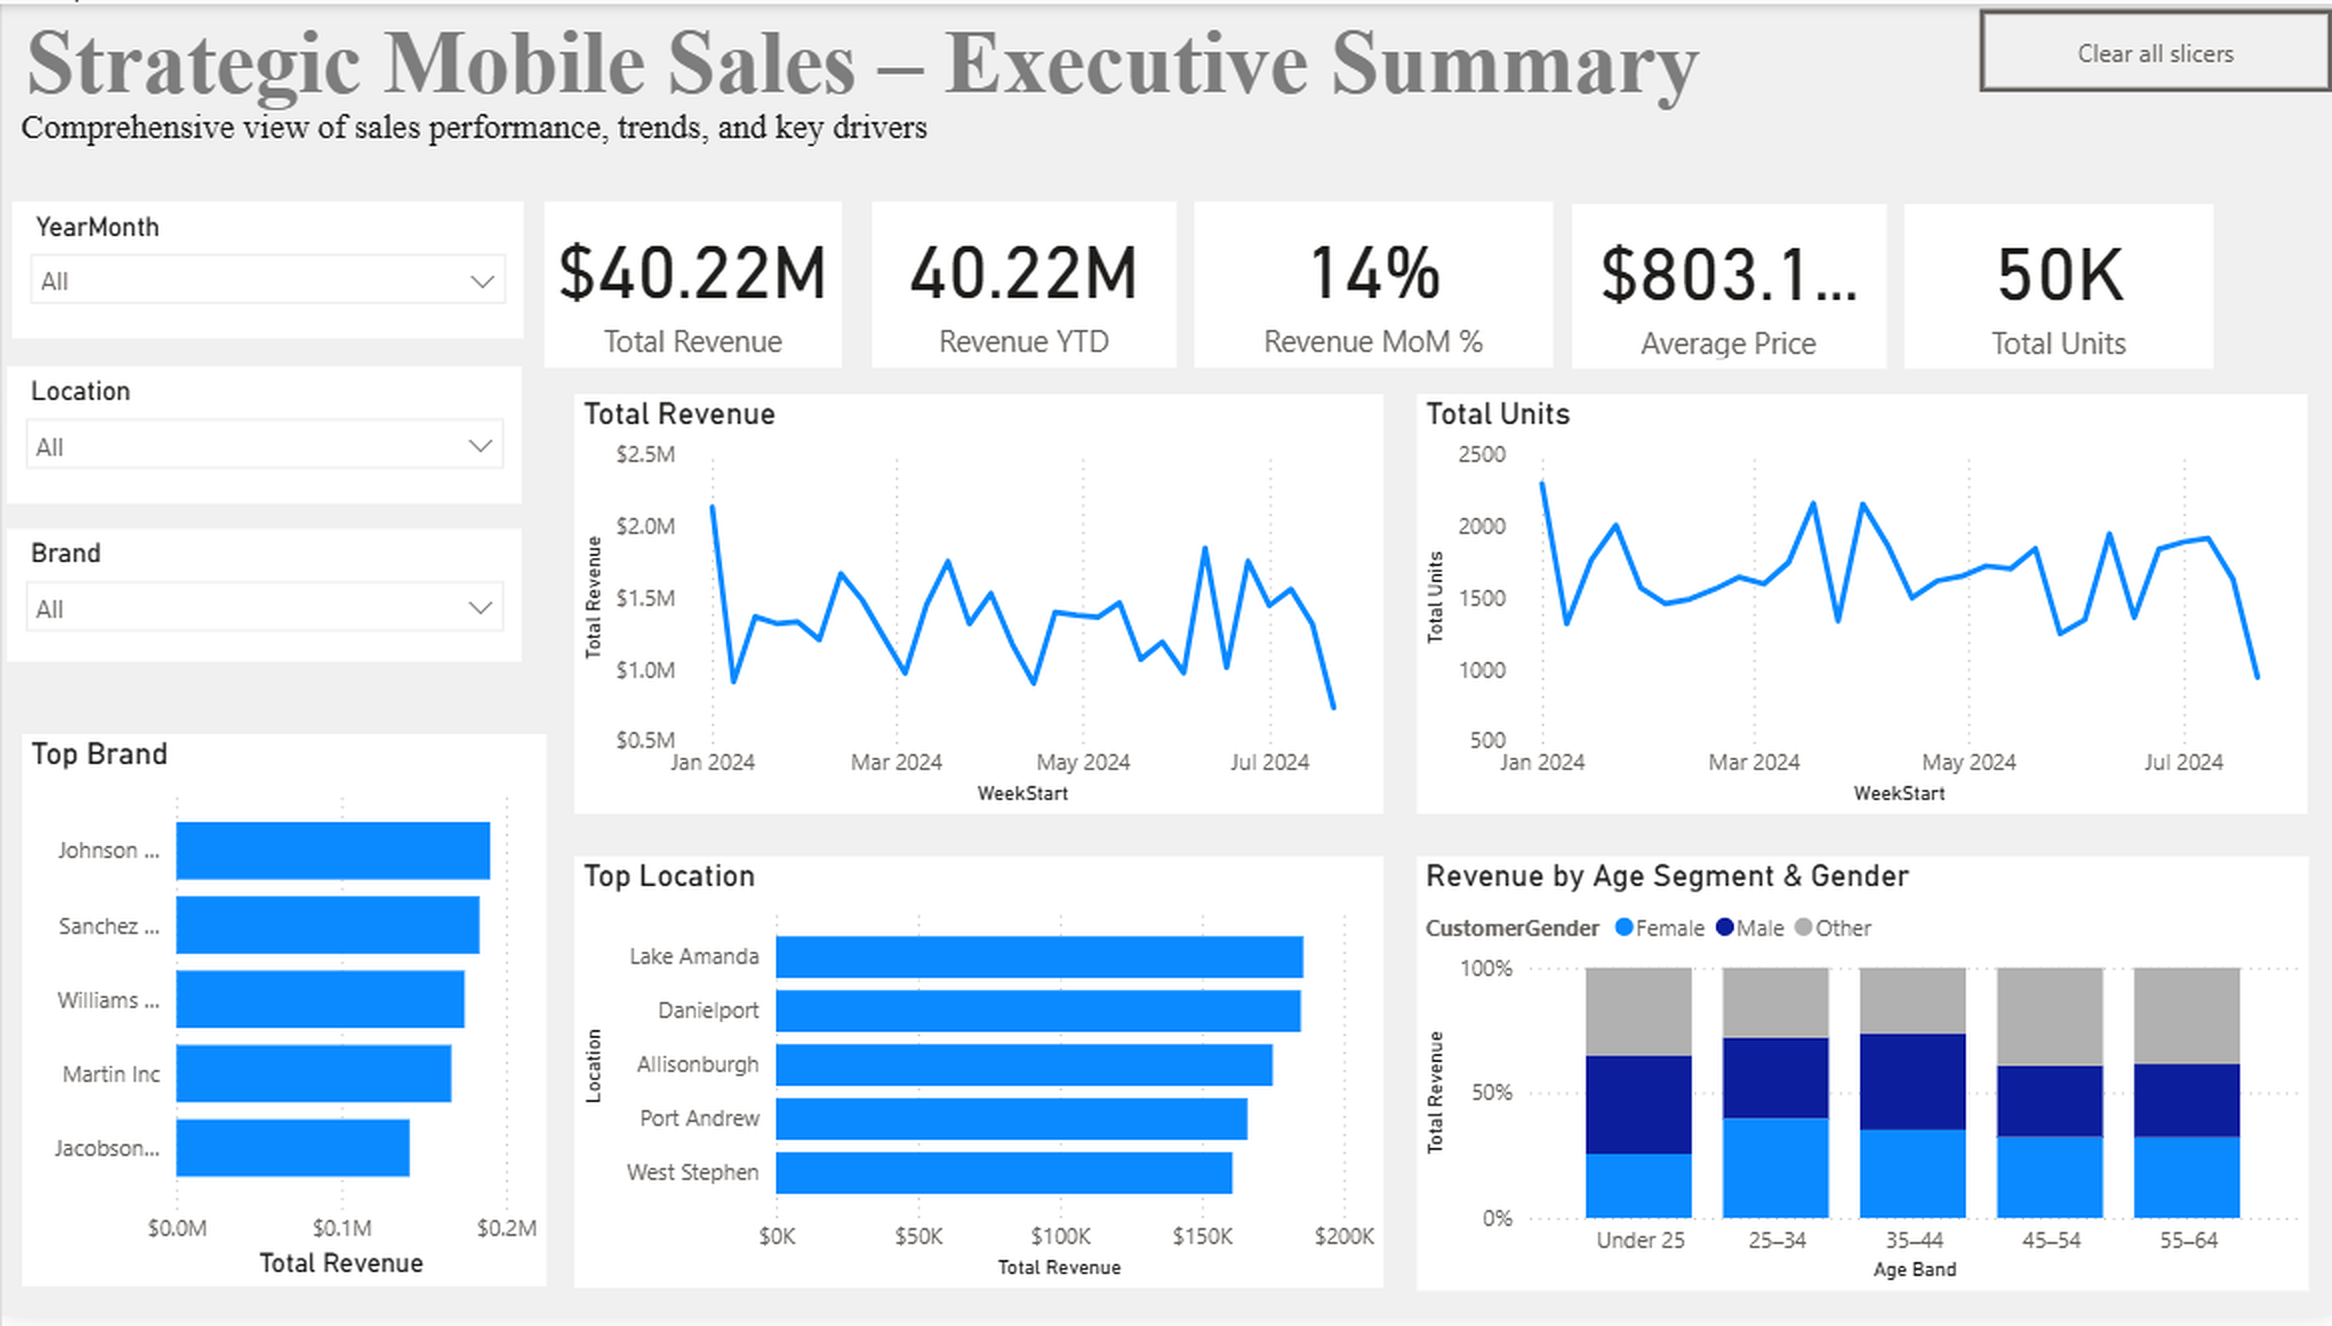

The page's visual inventory and layout, read from the dashboard file:
{"tool":"powerbi","page":{"name":"Overview","canvas":[1280,720],"ordinal":0},"visuals":[{"type":"slicer","fields":{"Values":["Date.YearMonth"]},"box":[5.1,108.9,280.9,74.9],"z":0},{"type":"slicer","fields":{"Values":["DimProduct.Brand"]},"box":[3.4,287.7,282.6,73.2],"z":1000},{"type":"slicer","fields":{"Values":["DimLocation.Location"]},"box":[3.4,199.1,282.6,74.9],"z":2000},{"type":"card","fields":{"Values":["Measures (2).Total Revenue"]},"box":[297.2,108.1,163.4,91.4],"z":3000},{"type":"card","fields":{"Values":["Measures (2).Total Units"]},"box":[1044.8,109.4,169.8,90.1],"z":4000},{"type":"card","fields":{"Values":["Measures (2).Revenue MoM %"]},"box":[654.9,108.1,196.9,91.4],"z":5000},{"type":"card","fields":{"Values":["Measures (2).Revenue YTD"]},"box":[477.4,108.1,167.3,91.4],"z":6000},{"type":"lineChart","title":"Total Units","fields":{"Y":["Measures (2).Total Units"],"Category":["Date.WeekStart"]},"box":[776.9,213.5,488.6,230.4],"z":7000},{"type":"lineChart","title":"Total Revenue","fields":{"Y":["Measures (2).Total Revenue"],"Category":["Date.WeekStart"]},"box":[313.7,213.5,444,230.4],"z":8000},{"type":"clusteredBarChart","title":"Top Brand","fields":{"Category":["DimProduct.Brand"],"Y":["Measures (2).Total Revenue"]},"box":[10.8,401,288,303.4],"z":9000},{"type":"actionButton","box":[1086,3.4,194,46],"z":10000},{"type":"textbox","box":[7.7,0,1001.6,71.2],"z":11000},{"type":"textbox","box":[5.1,51.5,943.1,39.9],"z":12000},{"type":"clusteredBarChart","title":"Top Location","fields":{"Category":["DimLocation.Location"],"Y":["Measures (2).Total Revenue"]},"box":[314.3,467.5,444.3,236.9],"z":13000},{"type":"card","fields":{"Values":["Measures (2).Average Price"]},"box":[862.1,109.4,172.4,90.1],"z":14000},{"type":"hundredPercentStackedColumnChart","title":"Revenue by Age Segment & Gender","fields":{"Category":["FactSales.Age Band"],"Y":["Measures (2).Total Revenue"],"Series":["FactSales.CustomerGender"]},"box":[777.2,467.5,489.2,238.4],"z":15000}]}

Visuals, with their boxes in screenshot pixels (x1, y1, x2, y2), scaled from the page's 1280x720 canvas onto the 2332x1326 screenshot:
slicer - Date.YearMonth: region(9, 201, 521, 338)
slicer - DimProduct.Brand: region(6, 530, 521, 665)
slicer - DimLocation.Location: region(6, 367, 521, 505)
card - Measures (2).Total Revenue: region(541, 199, 839, 367)
card - Measures (2).Total Units: region(1903, 201, 2213, 367)
card - Measures (2).Revenue MoM %: region(1193, 199, 1552, 367)
card - Measures (2).Revenue YTD: region(870, 199, 1175, 367)
"Total Units" lineChart: region(1415, 393, 2306, 818)
"Total Revenue" lineChart: region(572, 393, 1380, 818)
"Top Brand" clusteredBarChart: region(20, 739, 544, 1297)
actionButton: region(1979, 6, 2331, 91)
textbox: region(14, 0, 1839, 131)
textbox: region(9, 95, 1728, 168)
"Top Location" clusteredBarChart: region(573, 861, 1382, 1297)
card - Measures (2).Average Price: region(1571, 201, 1885, 367)
"Revenue by Age Segment & Gender" hundredPercentStackedColumnChart: region(1416, 861, 2307, 1300)
